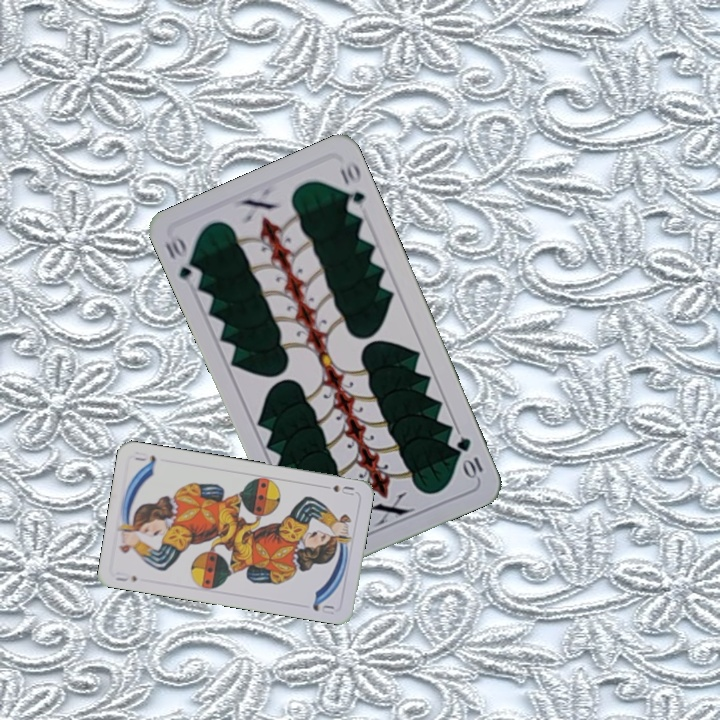G10: (161, 233, 204, 290), (452, 433, 486, 482)
SU: (317, 481, 357, 498), (111, 567, 140, 584)
